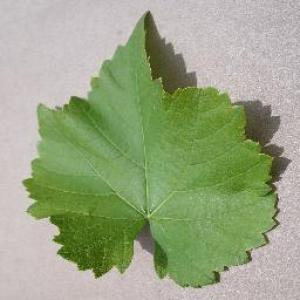Folha: (21, 9, 280, 288)
